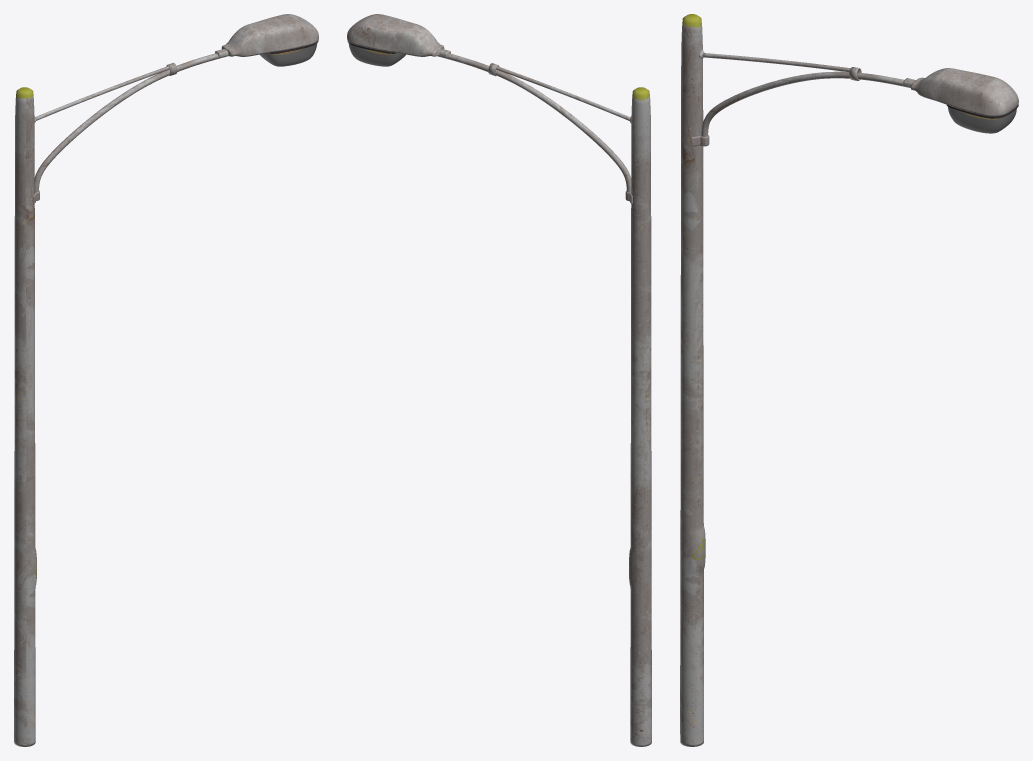
The model's file is streetlight.glb.
The picture shows the model from 3 angles, left to right: view 1: azimuth 30°, elevation 25°; view 2: azimuth 150°, elevation 25°; view 3: azimuth 330°, elevation 25°; orthographic projection. The views are drawn at different scales.
Parts seen in each view (by area): view 1: Street_Light; view 2: Street_Light; view 3: Street_Light.
Boxes of the visible parts, bbox=[...] form: Street_Light: bbox=[14, 14, 318, 746]; Street_Light: bbox=[347, 14, 651, 746]; Street_Light: bbox=[680, 14, 1018, 746].
Bounding box in the file's own units: 4.36 × 9.2 × 0.5872.
Materials: 1 (1 with a texture image).
